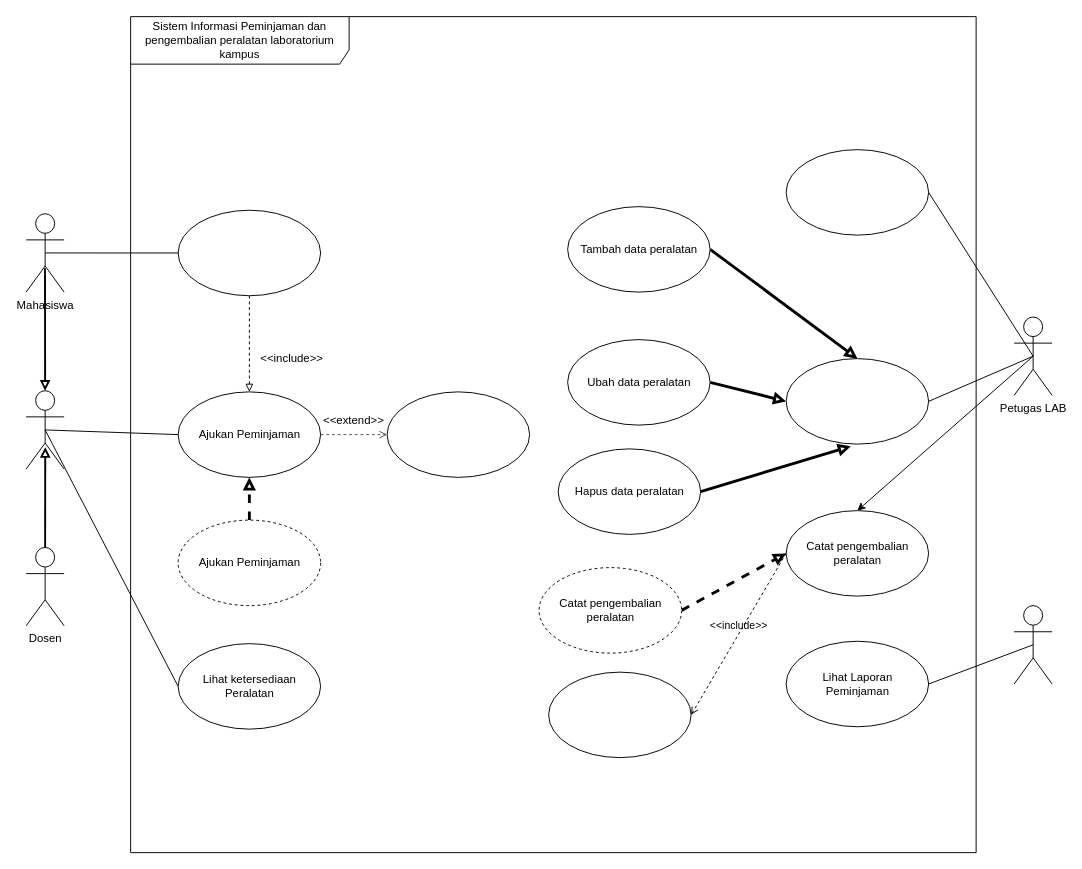
This 1082x869 diagram has some shape labels left out. Each missing label, with the centre of its shape:
Cetak Bukti Pengajuan: point 249,252
Kelola data peralatan: point 857,192
Kepala LAB: point 1032,644
Peminjam: point 44,429
Periksa Ketersediaan: point 458,434
Periksa kondisi peralatan: point 619,714
Proses Keputusan Peminjaman: point 857,401
